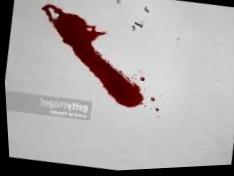Fire: (41, 4, 144, 109)
